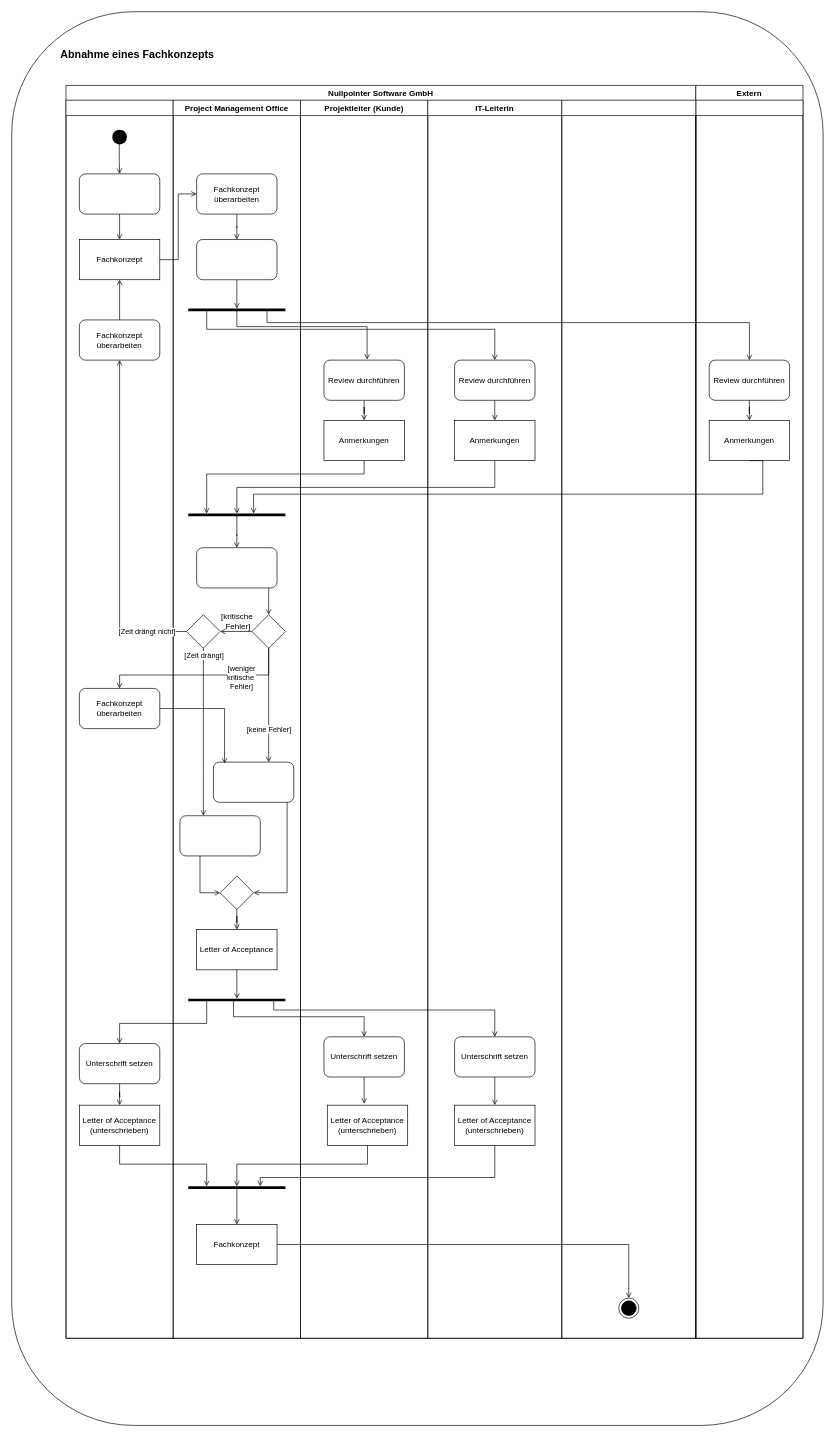
Some shapes in this 835 by 1437 pixel diagram are drawn without their labels. Each missing label, with the box of its shape:
Abnahme mit Vorbehalt vorbereiten: (179, 815, 260, 856)
Abnahme ohne Vorbehalt vorbereiten: (213, 761, 294, 802)
Fachkonzept erstellen: (79, 173, 160, 214)
Gesamtbewertung generieren: (196, 547, 277, 588)
Gutachter: (695, 99, 803, 1338)
Requirements Engineer: (65, 99, 173, 1338)
Software-Architekt: (561, 99, 696, 1338)
Stakeholder benachrichtigen: (196, 239, 277, 280)
